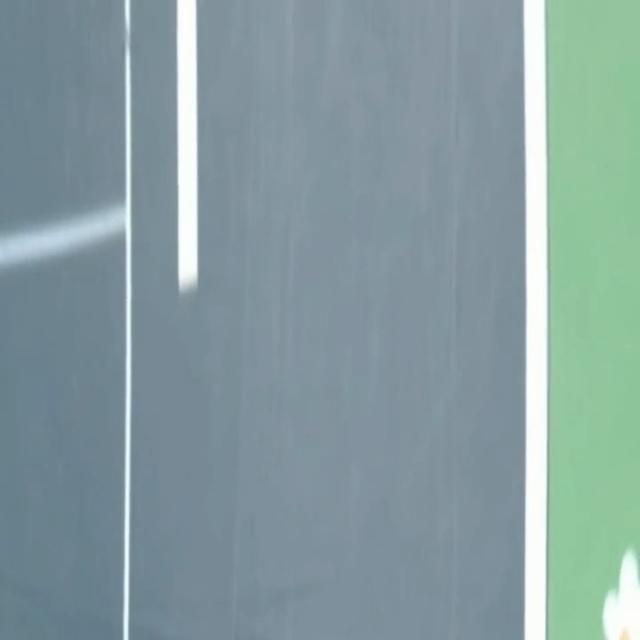center: (177, 0, 197, 292)
right: (524, 0, 548, 639)
